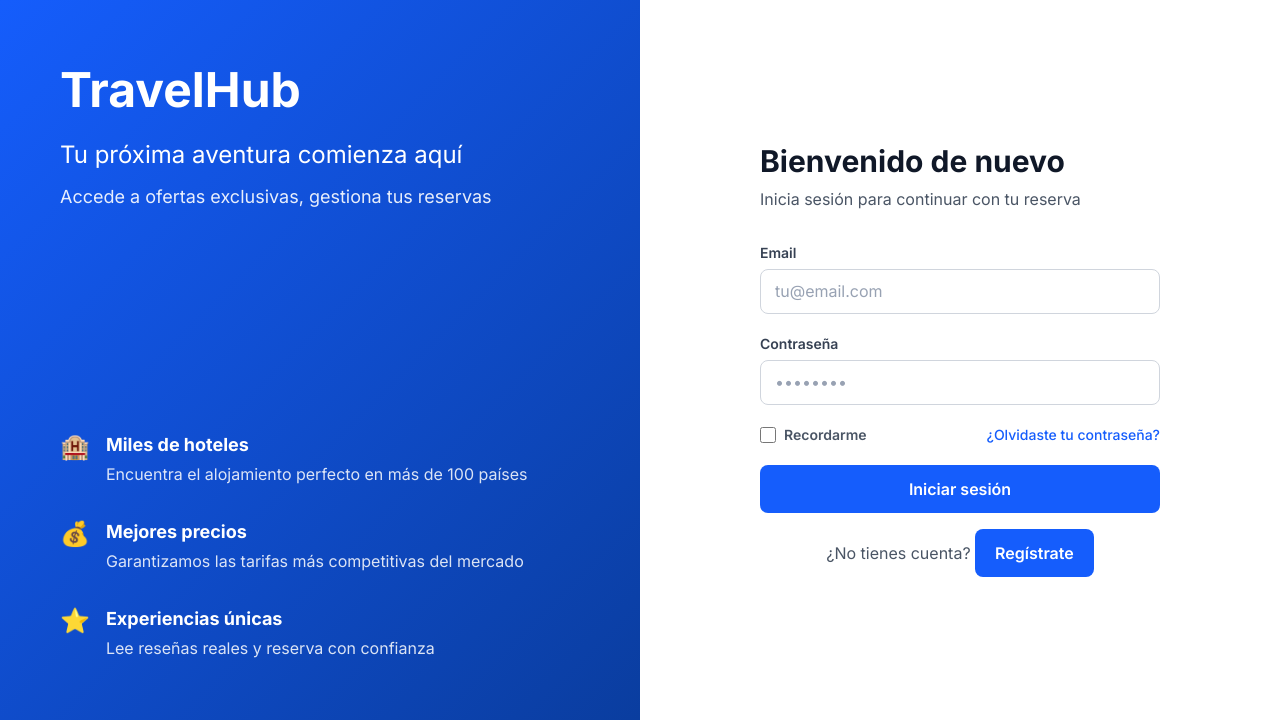
Inicio de sesión › Dado que el usuario está en la página de login › Cuando envía el formulario vacío, debe mostrar error
Click the submit button at (960, 489), box 760,465 -> 1160,513
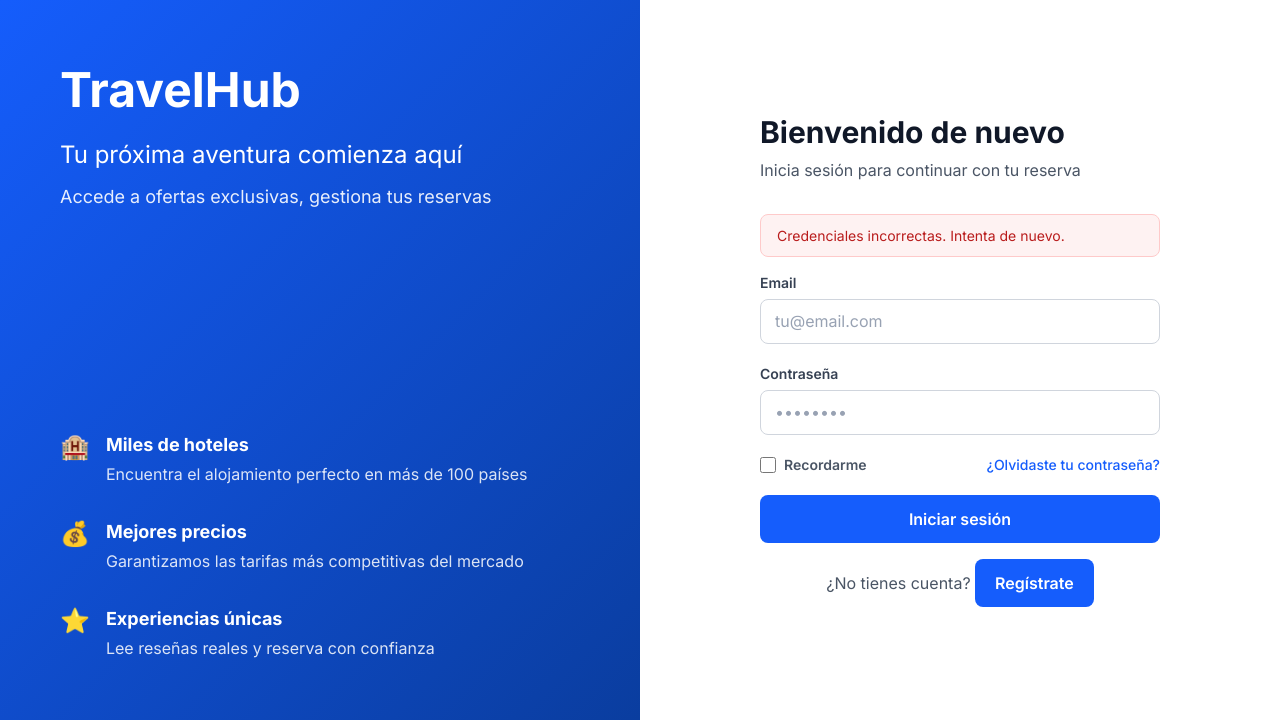
Expected: the text "Credenciales incorrectas. Intenta de nuevo." is shown, 760,214 -> 1160,256
